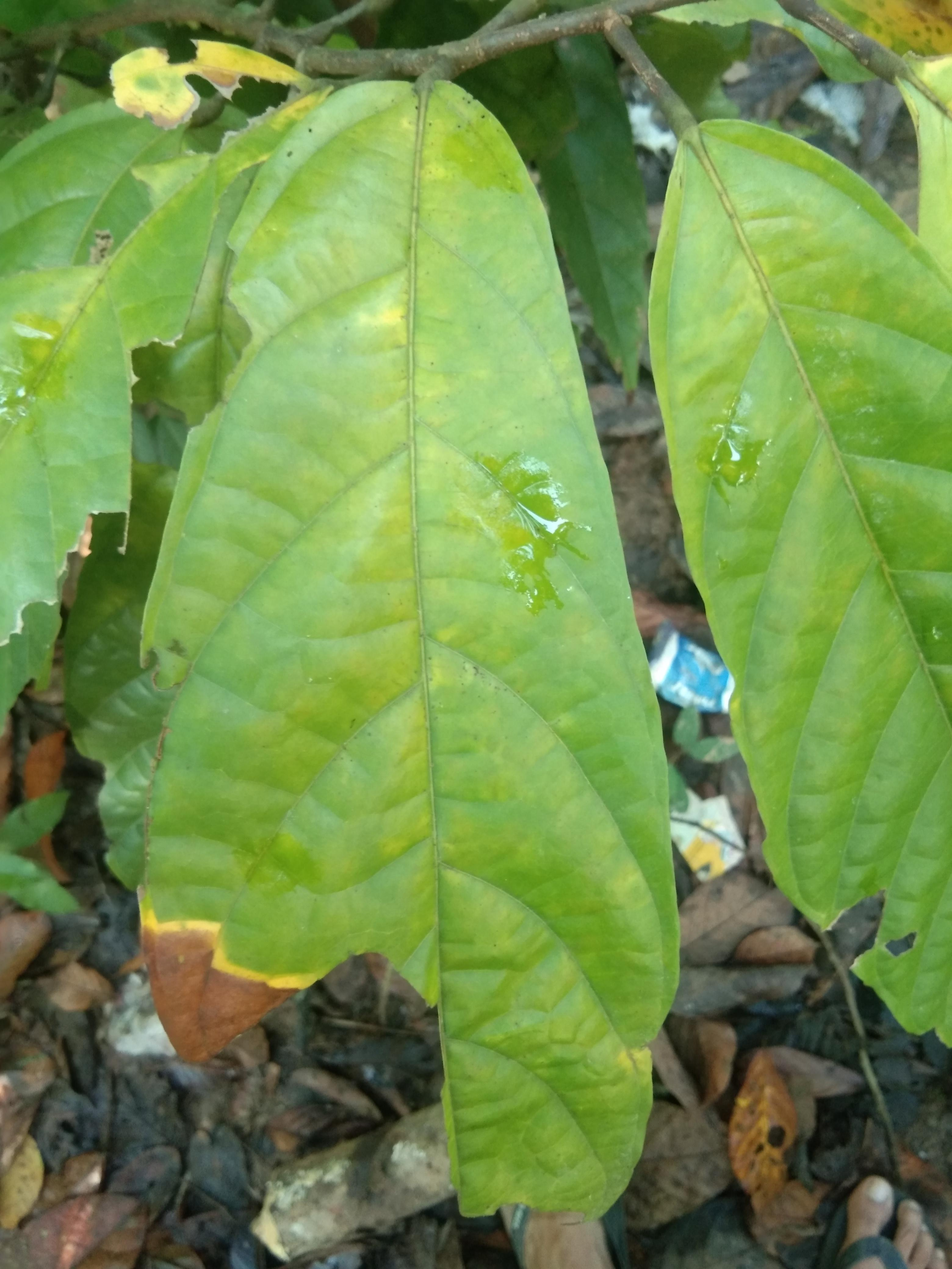deficiencia_potasio: (133, 77, 692, 1222)
